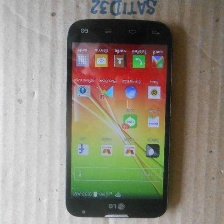phone: (62, 16, 177, 220)
